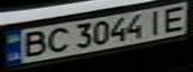0: (90, 18, 112, 46)
3: (69, 20, 93, 50)
4: (124, 11, 151, 39), (109, 15, 133, 43)
B: (15, 28, 51, 60)
C: (42, 25, 72, 55)
E: (157, 2, 193, 33)
I: (142, 7, 169, 35)
